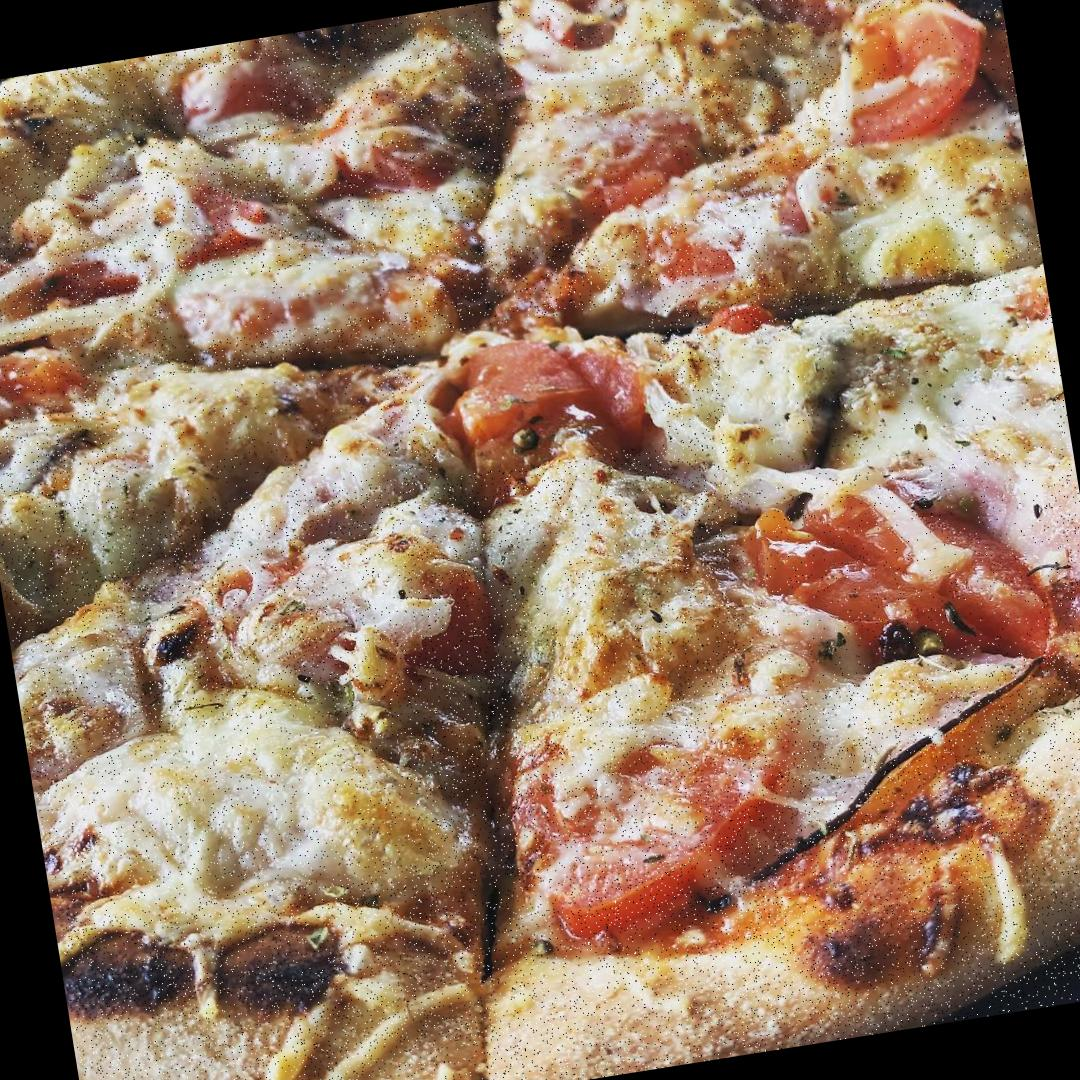Cheese: (44, 694, 422, 918), (717, 292, 1060, 493), (502, 475, 719, 710), (114, 347, 389, 516), (756, 135, 1038, 281), (511, 0, 759, 100)
Pizza: (0, 0, 1080, 1080)
Tomatoes: (487, 685, 814, 956), (722, 455, 1067, 698), (213, 509, 492, 696), (417, 301, 667, 478), (32, 164, 294, 283), (832, 0, 1013, 168), (508, 98, 714, 245), (254, 108, 473, 223), (165, 250, 411, 346), (0, 333, 83, 428), (178, 60, 274, 131)
